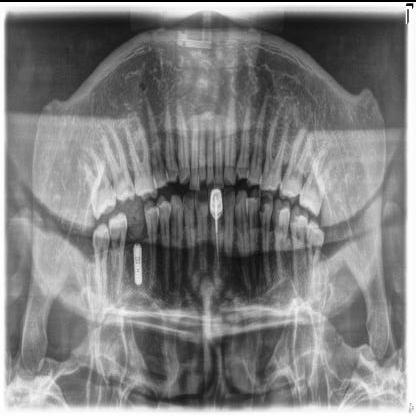ITI: (133, 240, 143, 284)
